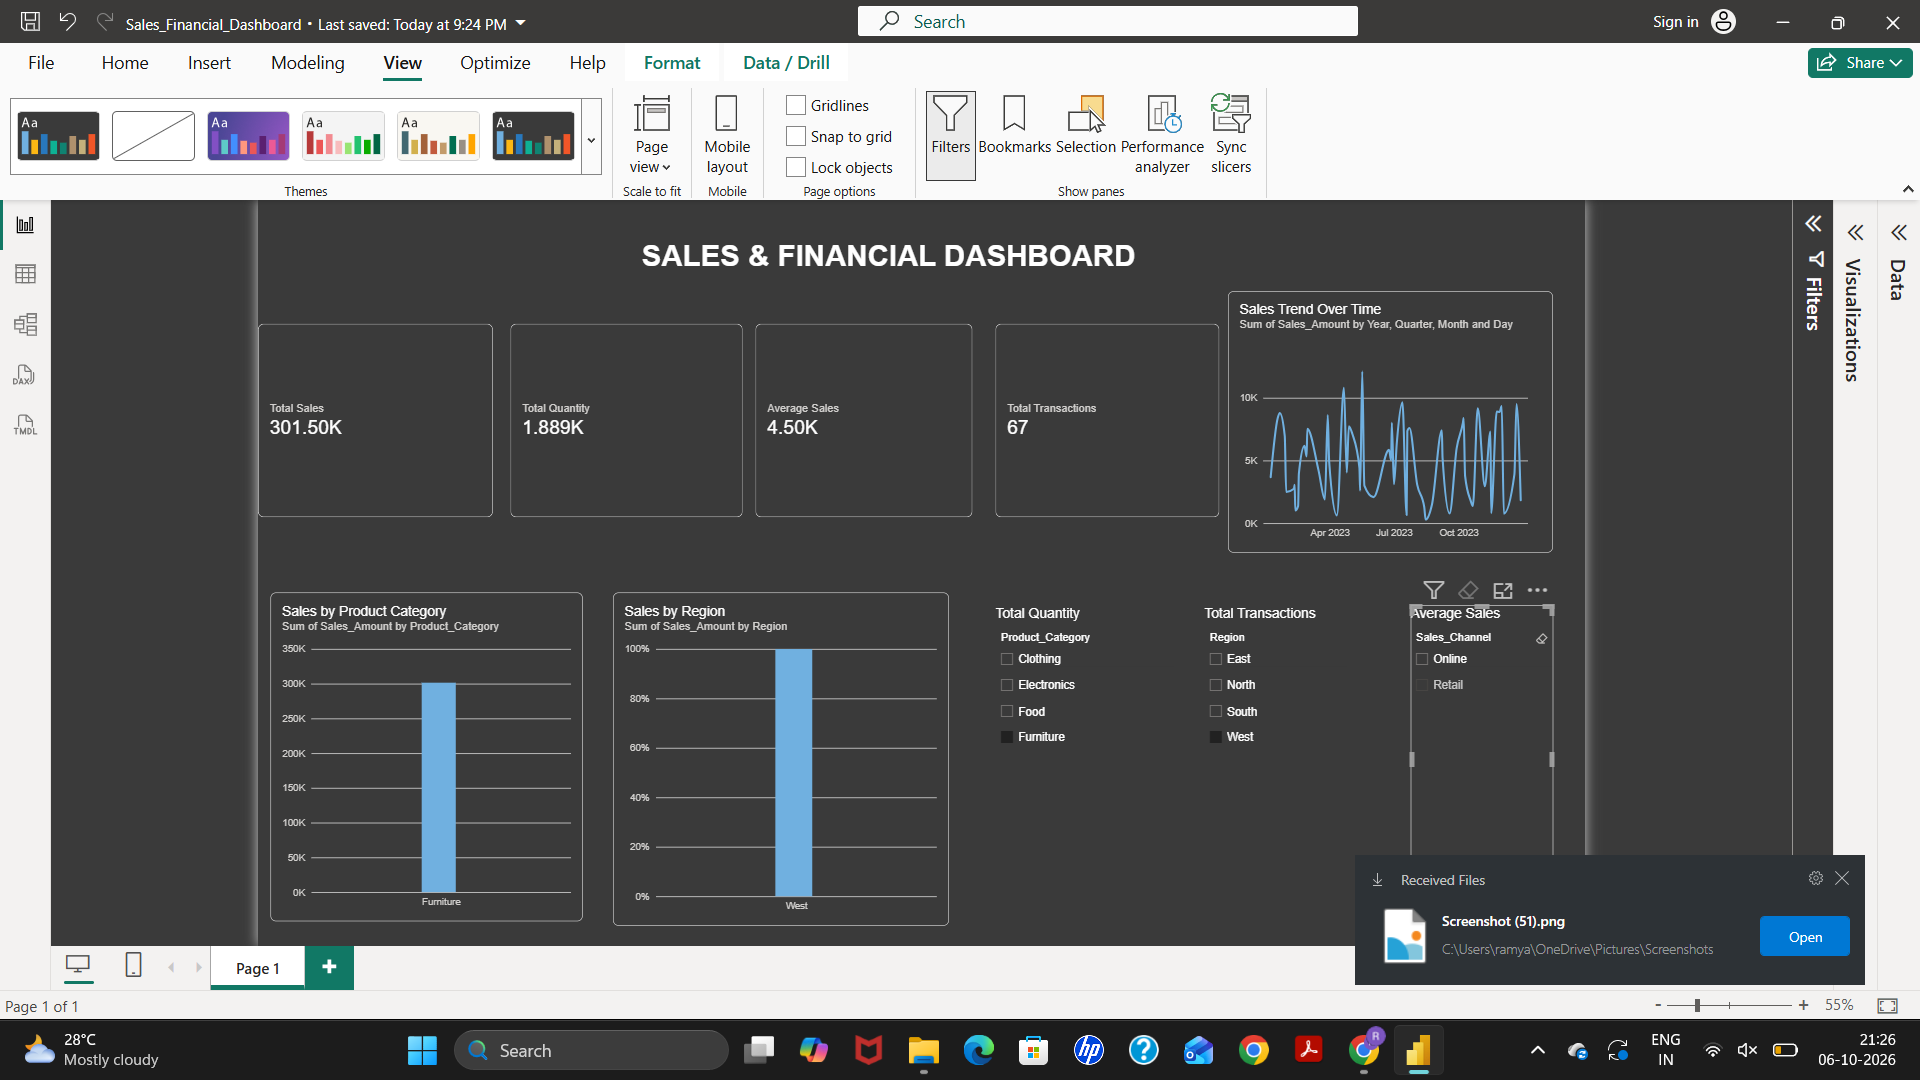

What the dashboard file says about the page in this screenshot:
{"tool":"powerbi","page":{"name":"Page 1","canvas":[1920,1080],"ordinal":0},"visuals":[{"type":"cardVisual","fields":{"Data":["sales_data csv.Total Sales"]},"box":[0,180,340,280],"z":0},{"type":"cardVisual","fields":{"Data":["sales_data csv.Total Quantity"]},"box":[366,180,336,280],"z":1000},{"type":"cardVisual","fields":{"Data":["sales_data csv.Average Sales"]},"box":[720,180,314,280],"z":2000},{"type":"cardVisual","fields":{"Data":["sales_data csv.Total Transactions"]},"box":[1068,180,324,280],"z":3000},{"type":"lineClusteredColumnComboChart","title":"Sales by Product Category","fields":{"Category":["sales_data csv.Product_Category"],"Y":["Sum(sales_data csv.Sales_Amount)"]},"box":[18,568,452,476],"z":4000},{"type":"hundredPercentStackedColumnChart","title":"Sales by Region","fields":{"Category":["sales_data csv.Region"],"Y":["Sum(sales_data csv.Sales_Amount)"]},"box":[514,568,486,482],"z":5000},{"type":"lineChart","title":"Sales Trend Over Time","fields":{"Category":["sales_data csv.Sale_Date.Variation.Date Hierarchy.Year","sales_data csv.Sale_Date.Variation.Date Hierarchy.Quarter","sales_data csv.Sale_Date.Variation.Date Hierarchy.Month","sales_data csv.Sale_Date.Variation.Date Hierarchy.Day"],"Y":["Sum(sales_data csv.Sales_Amount)"]},"box":[1404,132,470,378],"z":6000},{"type":"slicer","title":"Total Transactions","fields":{"Values":["sales_data csv.Region"]},"box":[1370,586,206,448],"z":7000},{"type":"slicer","title":"Total Quantity","fields":{"Values":["sales_data csv.Product_Category"]},"box":[1068,586,258,446],"z":8000},{"type":"slicer","title":"Average Sales","fields":{"Values":["sales_data csv.Sales_Channel"]},"box":[1668,586,206,448],"z":9000},{"type":"textbox","box":[556,56,770,76],"z":10000}]}

Visuals, with their boxes on the page's 1920x1080 design canvas (x1, y1, x2, y2). These are canvas units, not pixel positions in the 1920x1080 screenshot, which may show the page scaled, cropped or inside an application window:
cardVisual - sales_data csv.Total Sales: 0 180 340 460
cardVisual - sales_data csv.Total Quantity: 366 180 702 460
cardVisual - sales_data csv.Average Sales: 720 180 1034 460
cardVisual - sales_data csv.Total Transactions: 1068 180 1392 460
"Sales by Product Category" lineClusteredColumnComboChart: 18 568 470 1044
"Sales by Region" hundredPercentStackedColumnChart: 514 568 1000 1050
"Sales Trend Over Time" lineChart: 1404 132 1874 510
"Total Transactions" slicer: 1370 586 1576 1034
"Total Quantity" slicer: 1068 586 1326 1032
"Average Sales" slicer: 1668 586 1874 1034
textbox: 556 56 1326 132
